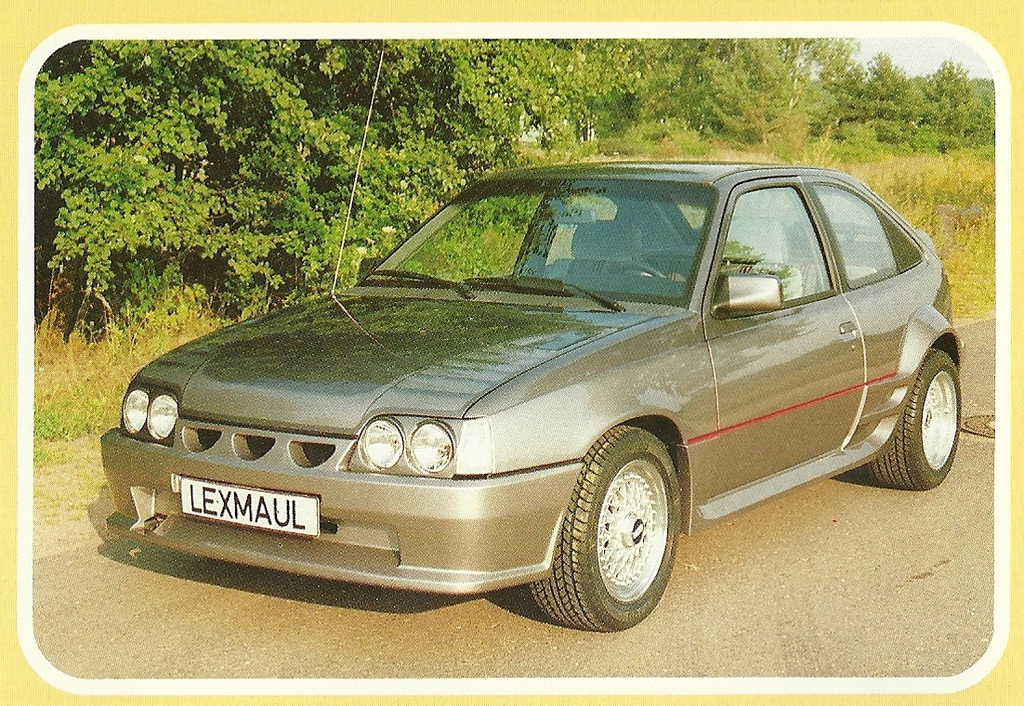Tree: (34, 39, 996, 353)
